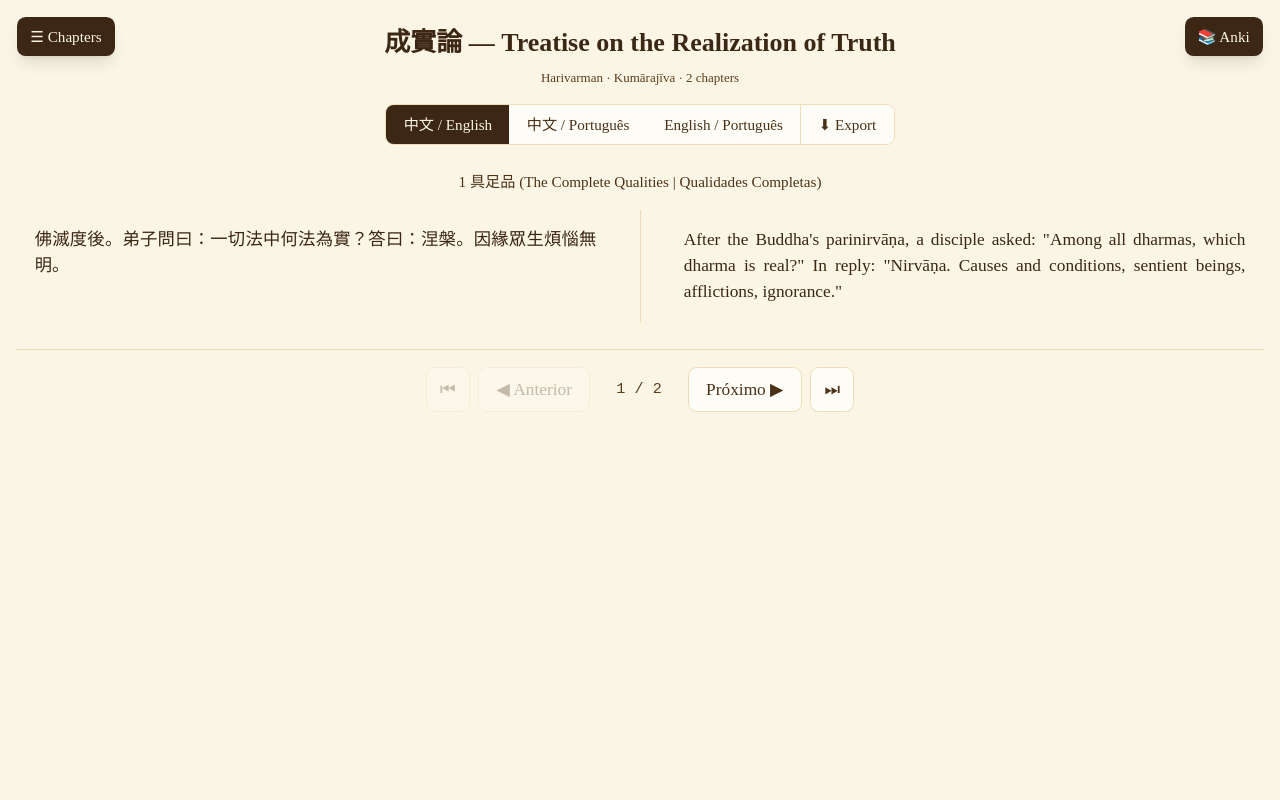
Test: App › renders settings modal when state.overlay is settings
Click Export button which dispatches SHOW_SETTINGS
Click the button "⬇ Export" at (847, 124), box [800,105,894,144]
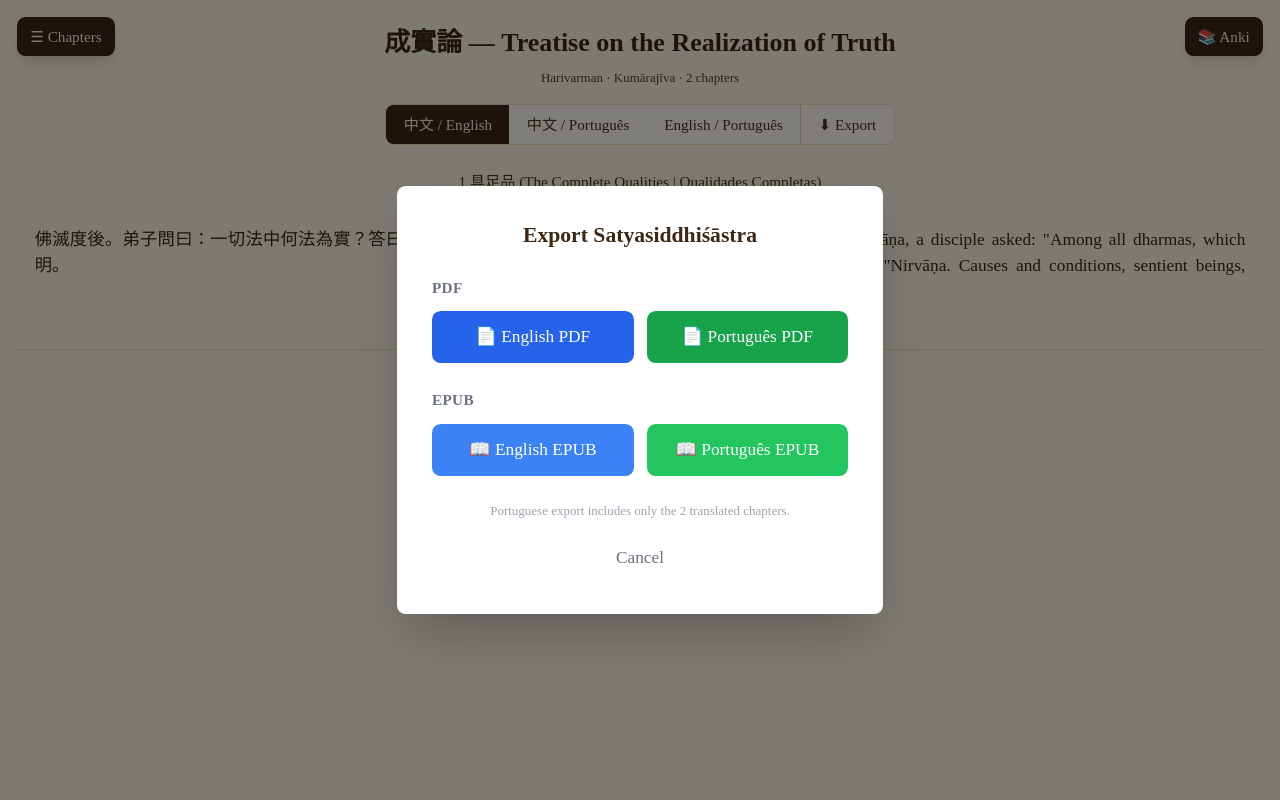
Now the heading "Export Satyasiddhiśāstra" is shown, box [523,223,757,247]
Close modal
Click the button "Cancel" at (640, 558), box [432,536,848,580]
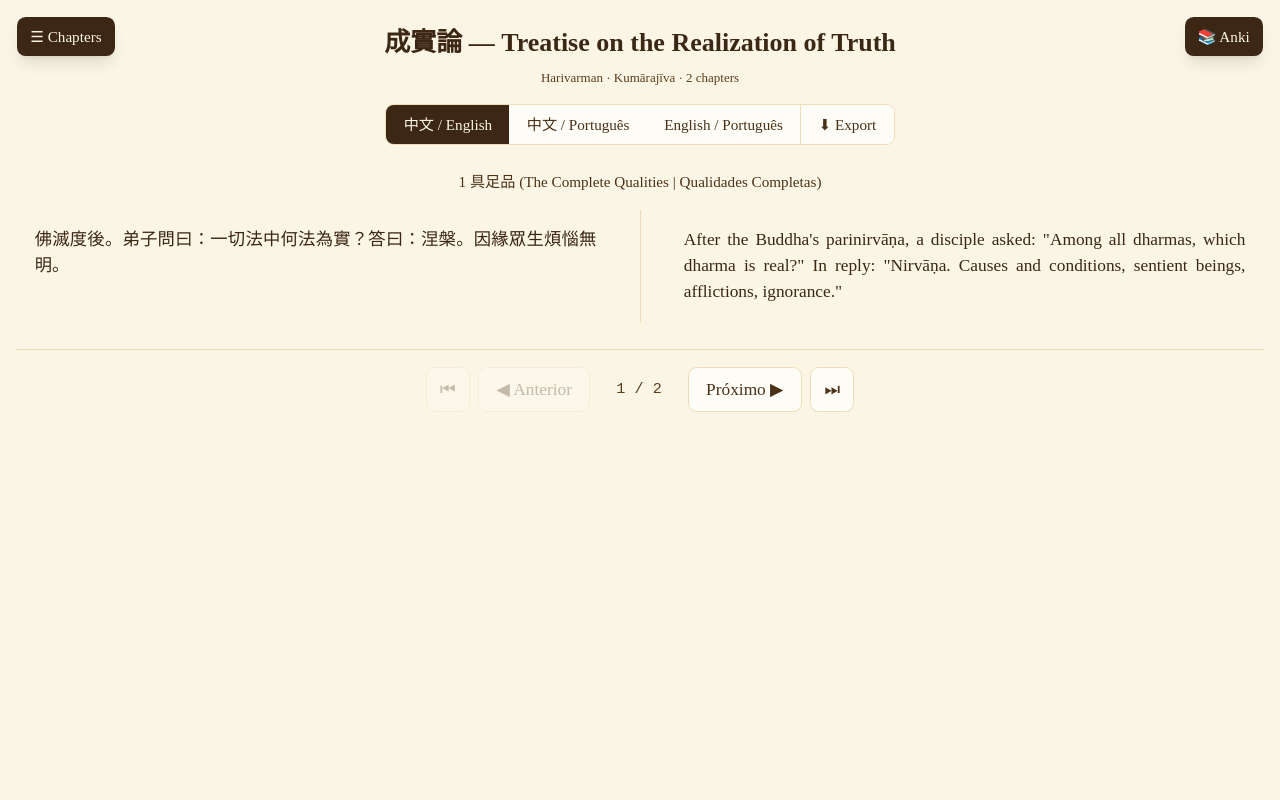
Now the heading "Export Satyasiddhiśāstra" is gone
